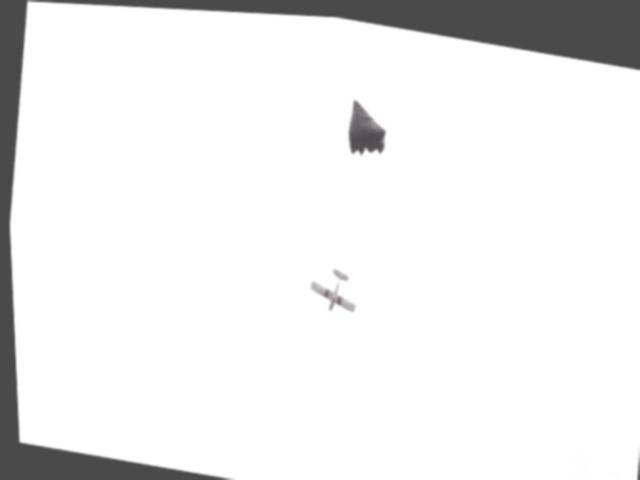uav: (303, 257, 359, 317)
